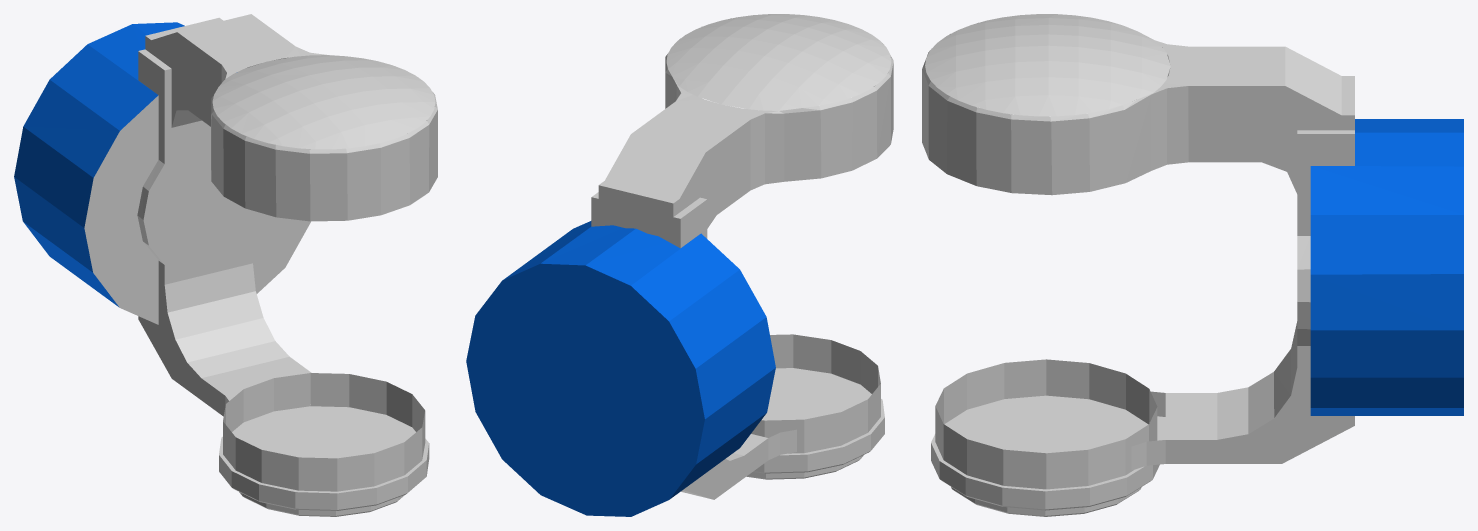
File: RARM_LINK6_mesh.dae
3 renders of one model, left to right at view 1: azimuth 30°, elevation 25°; view 2: azimuth 150°, elevation 25°; view 3: azimuth 270°, elevation 25°, orthographic. The views are drawn at different scales.
Visible parts, largest first — view 1: RARM_LINK6 (×2); view 2: RARM_LINK6 (×2); view 3: RARM_LINK6 (×2).
Part boxes in pixels (left/top/right/bottom): RARM_LINK6 (×2): left=14, top=14, right=437, bottom=516; RARM_LINK6 (×2): left=466, top=14, right=893, bottom=516; RARM_LINK6 (×2): left=922, top=14, right=1463, bottom=516.
Bounding box in the file's own units: 0.067 × 0.1075 × 0.122.
